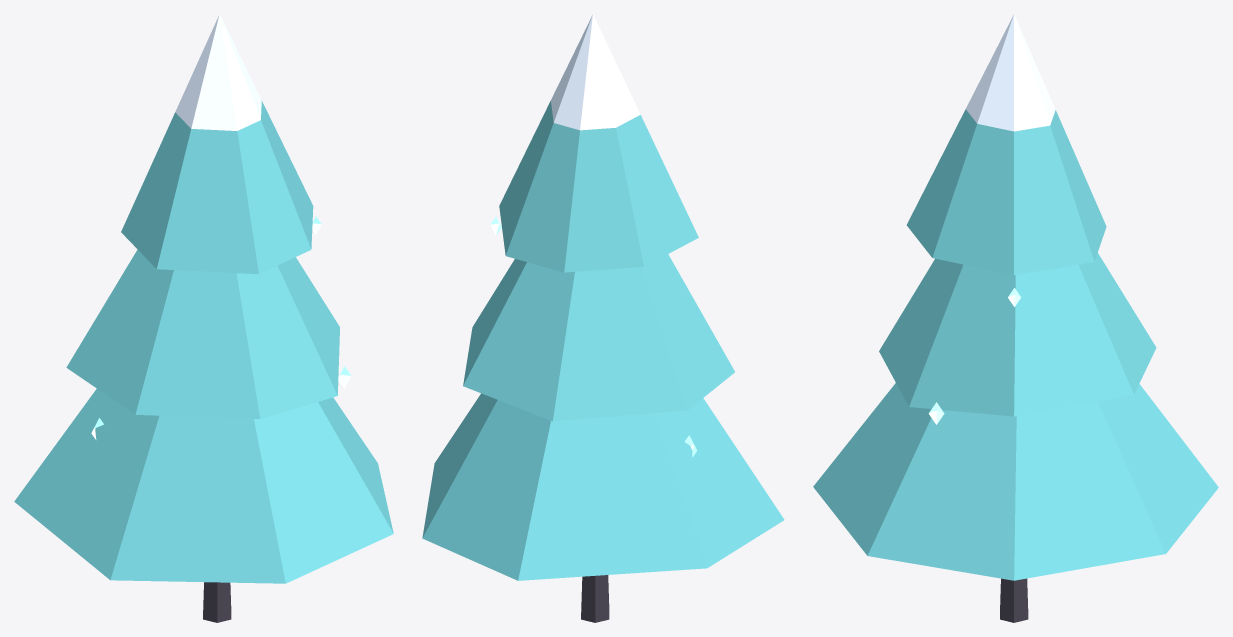
The model's file is snow_conifer_near.glb.
3 views of the same model, side by side, from view 1: azimuth 30°, elevation 25°; view 2: azimuth 150°, elevation 25°; view 3: azimuth 270°, elevation 25° (orthographic).
Visible parts, largest first — view 1: snow_conifer_near; view 2: snow_conifer_near; view 3: snow_conifer_near.
Boxes of the visible parts, x1,y1,x2,y2 form: snow_conifer_near: [14, 14, 393, 622]; snow_conifer_near: [422, 14, 784, 622]; snow_conifer_near: [813, 14, 1218, 622].
Bounding box in the file's own units: 1.8 × 3.25 × 1.98.
